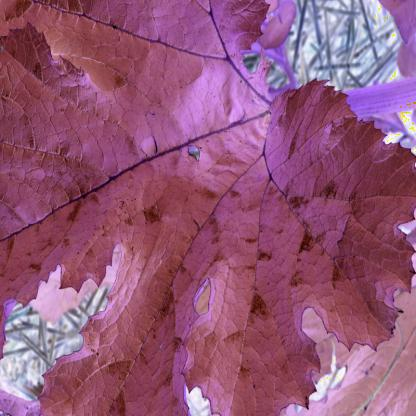squash powdery mildew leaf: (1, 1, 415, 410)
